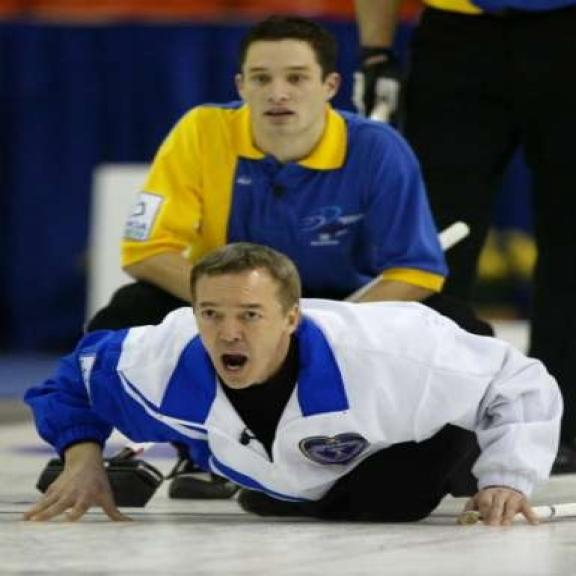face: (190, 272, 306, 394), (233, 42, 347, 148)
